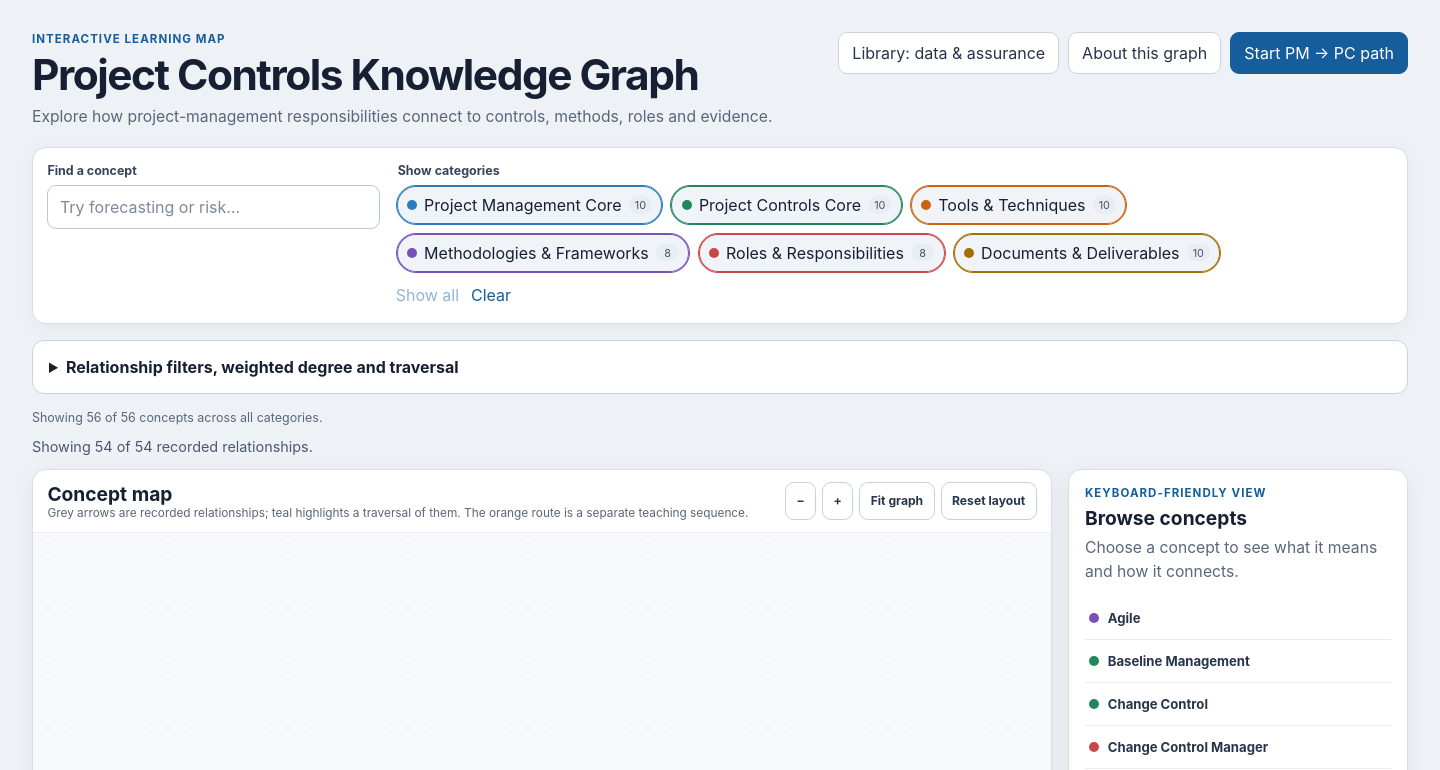
it: Project Controls Knowledge Graph › search composes with category filters and Clear exposes an empty state
In the search field labelled "Find a concept": (214, 207) [47,185,380,229], type "forecasting"
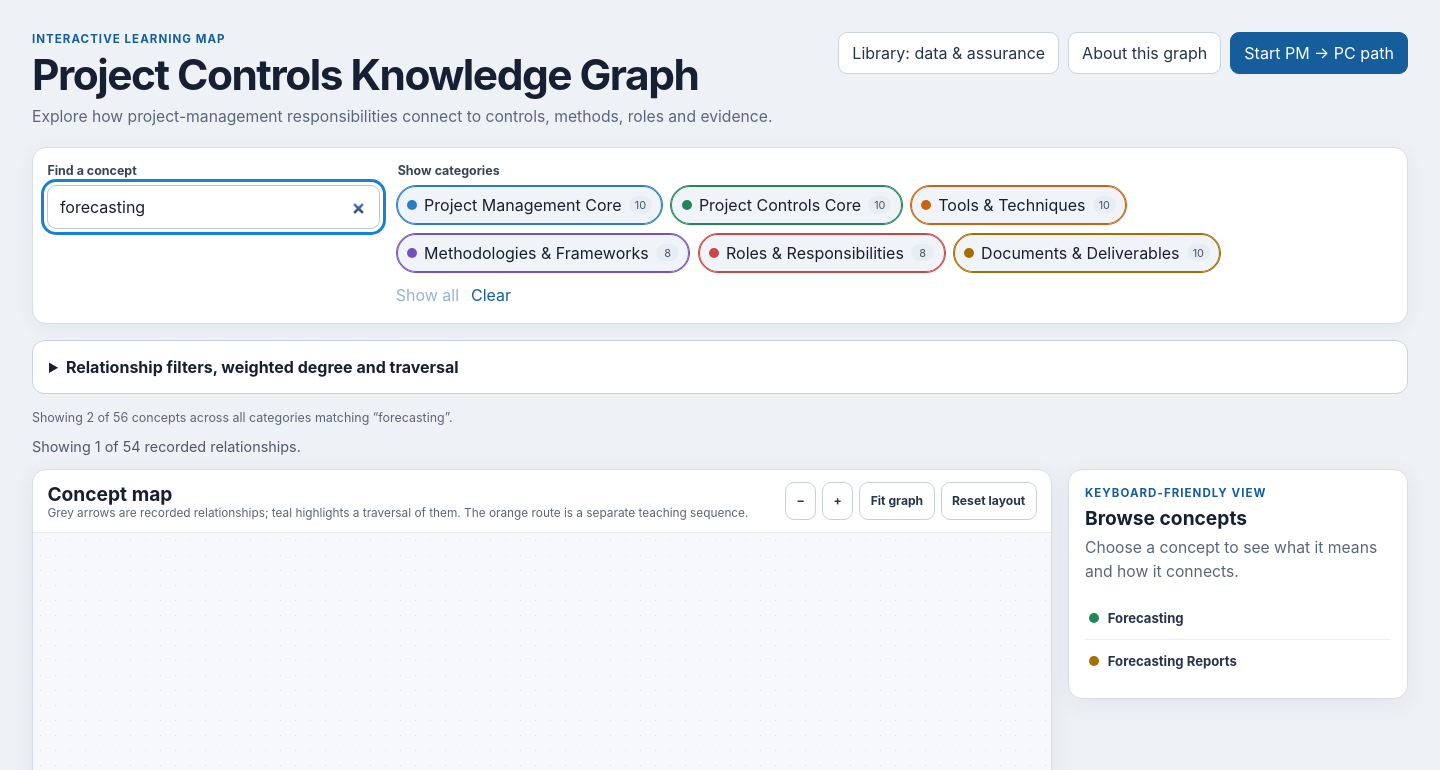
Expected: the text "Showing 2 of 56 concepts" is shown, [32,410,453,425]
Click the button "Documents & Deliverables 10": (1087, 252) [953,232,1221,272]
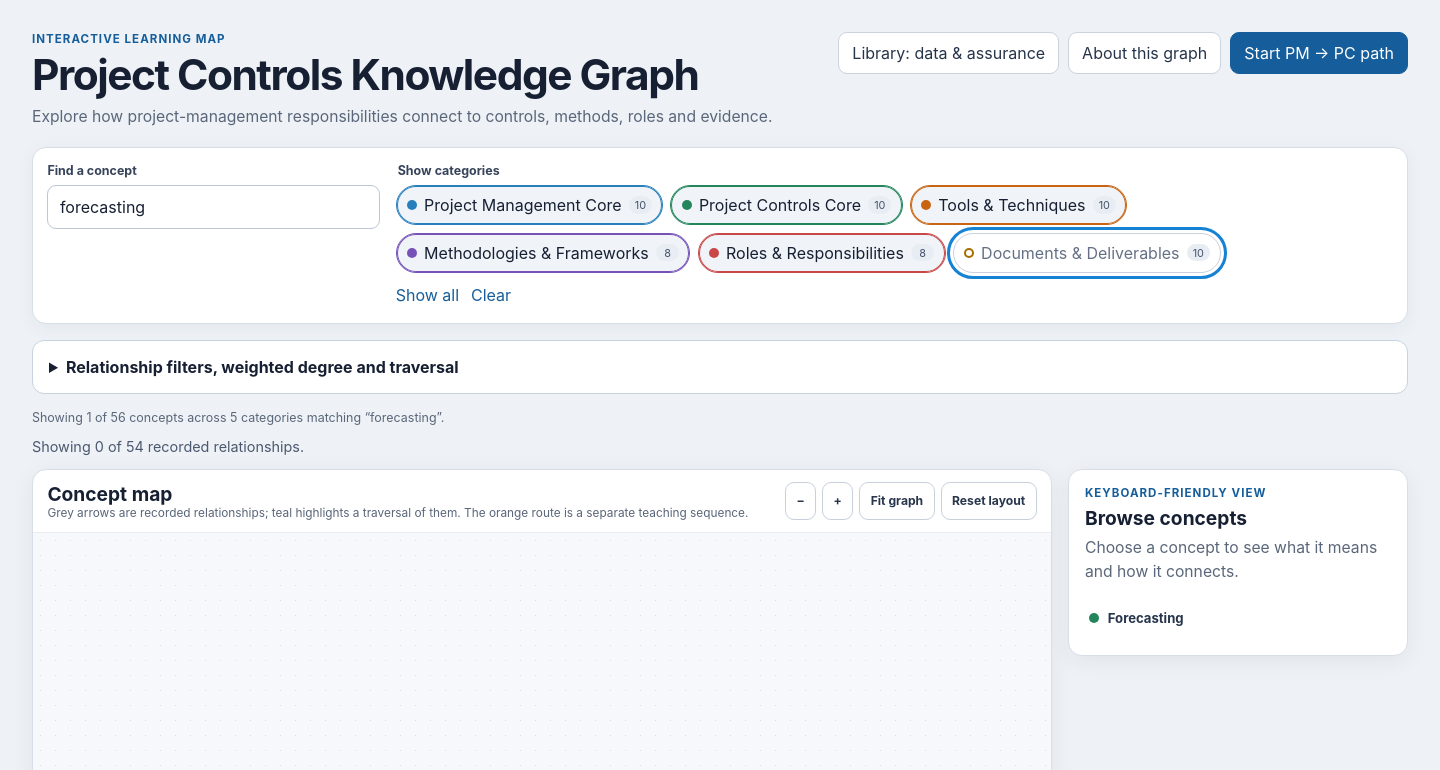
Expected: the text "Showing 1 of 56 concepts" is shown, [32,410,444,425]
Click the button "Clear": (491, 295) [471,281,511,308]
(page scrolled)
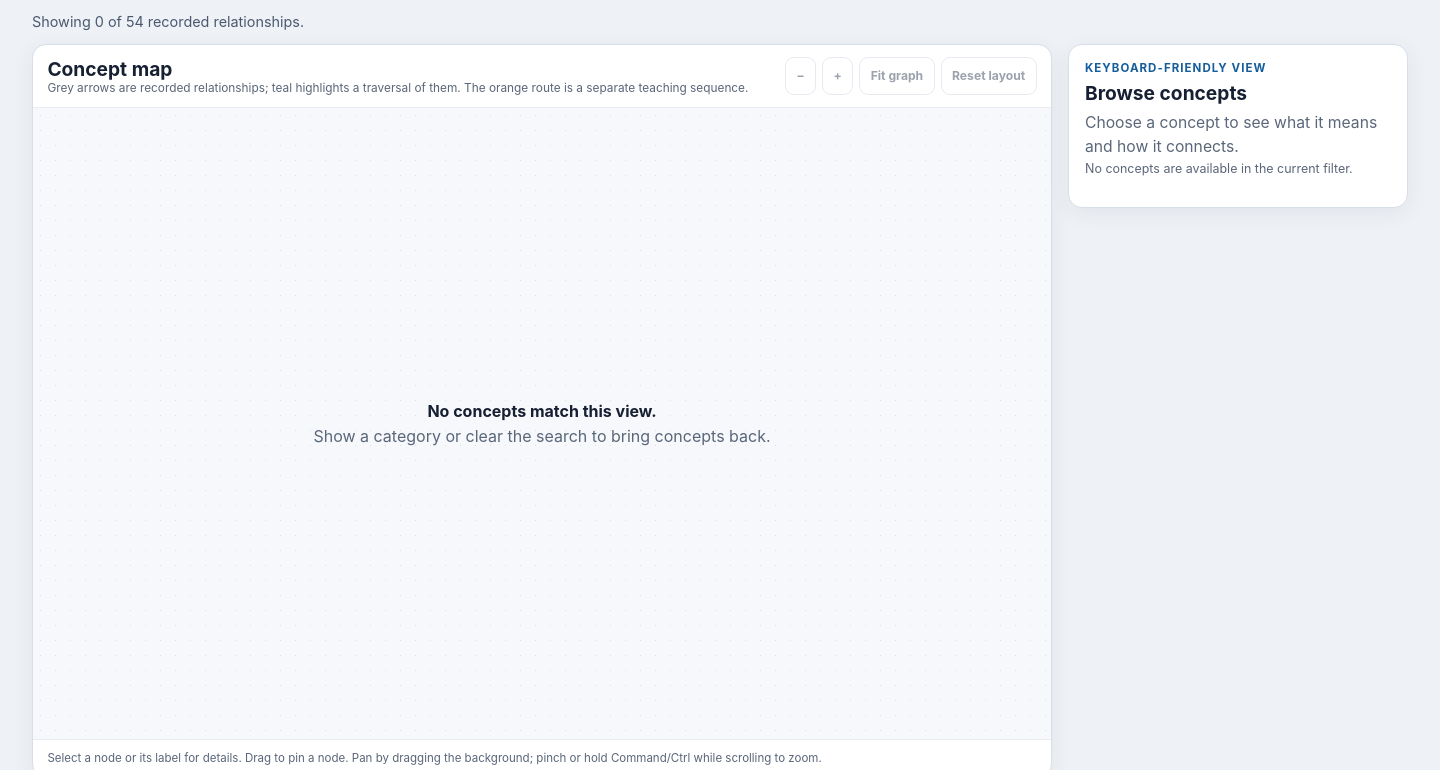
Expected: the text "No concepts match this view." is shown, [427,401,657,421]
